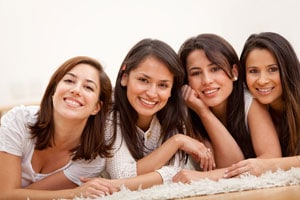bare: (51, 88, 95, 119), (190, 78, 234, 105), (128, 86, 165, 115), (248, 76, 285, 105)
